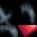heart: (18, 25, 37, 37)
helmet: (18, 0, 37, 25), (0, 25, 18, 37)
sword: (0, 0, 18, 25)
